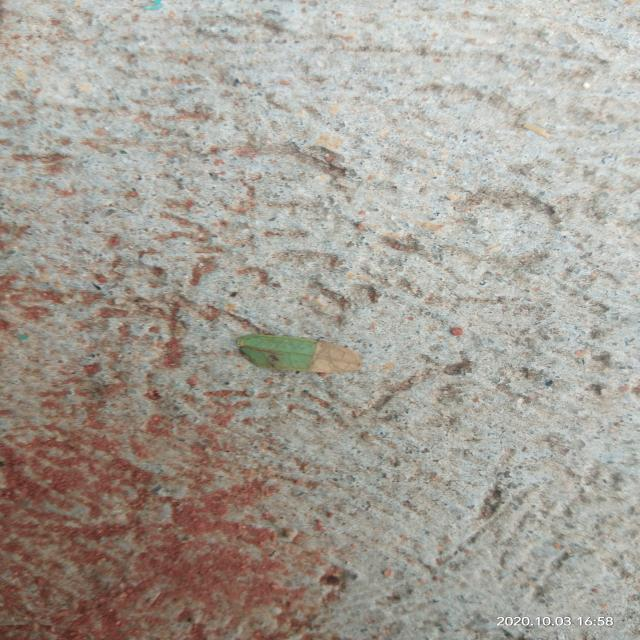defectedtamarind: (307, 341, 362, 372)
tamarind: (237, 334, 362, 374)
